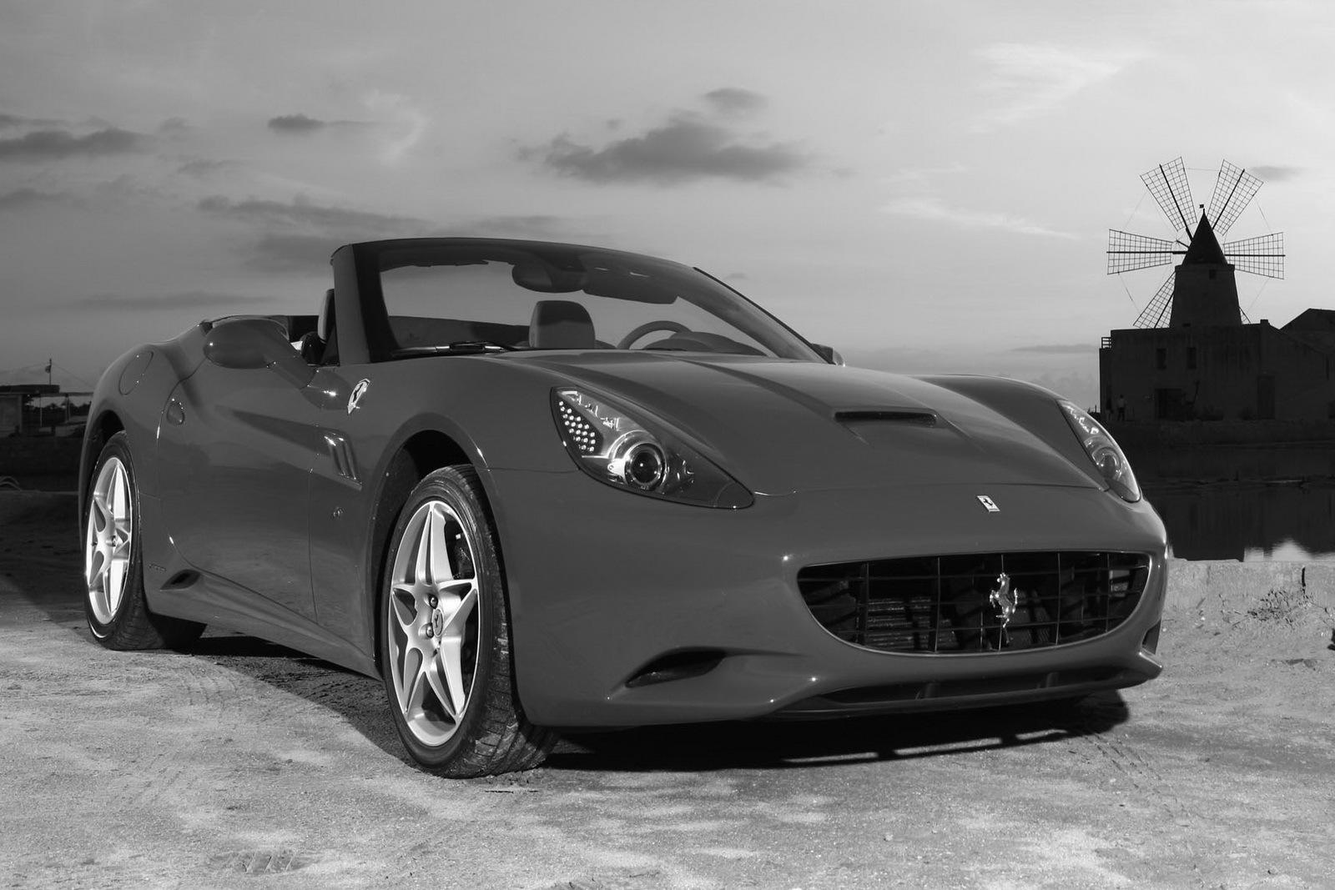car: (77, 232, 1165, 780)
